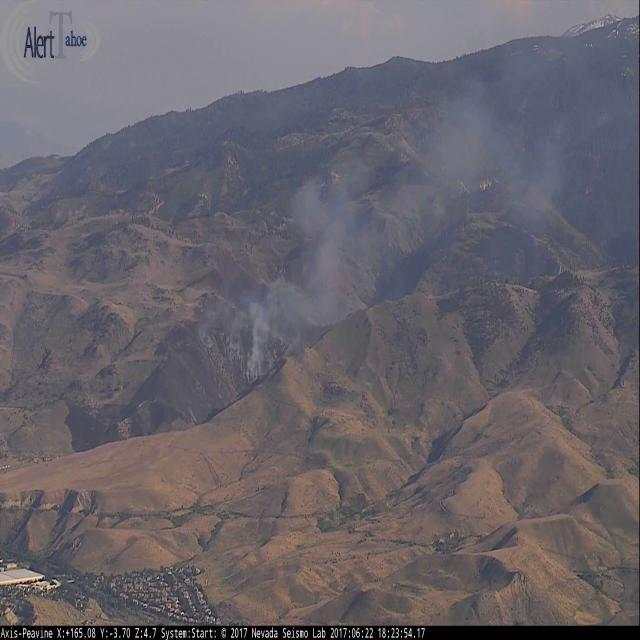smoke: (209, 0, 639, 416)
